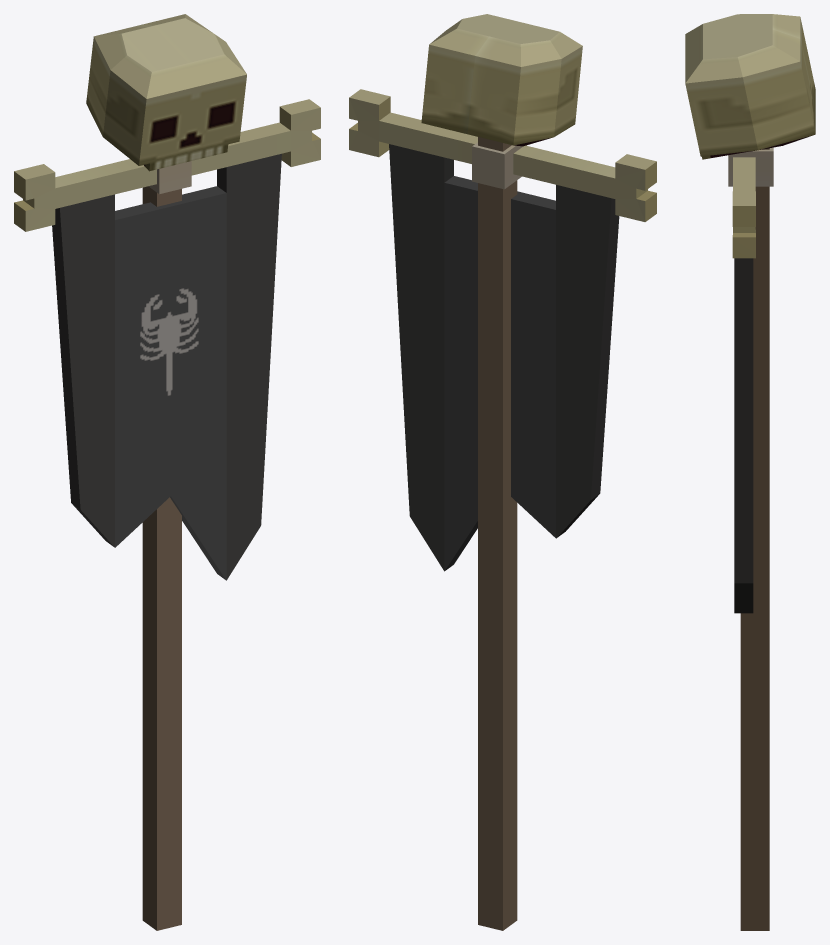
File: Flag_09.gltf
The picture shows the model from 3 angles, left to right: view 1: azimuth 30°, elevation 25°; view 2: azimuth 150°, elevation 25°; view 3: azimuth 270°, elevation 25°; orthographic projection.
Parts seen in each view (by area): view 1: SF_Prop_Flag_09; view 2: SF_Prop_Flag_09; view 3: SF_Prop_Flag_09.
Boxes of the visible parts, x1,y1,x2,y2 form: SF_Prop_Flag_09: (14, 14, 320, 930); SF_Prop_Flag_09: (349, 14, 656, 930); SF_Prop_Flag_09: (685, 14, 815, 930).
Bounding box in the file's own units: 0.0157 × 0.0452 × 0.00596.
1 material, 1 textured.
